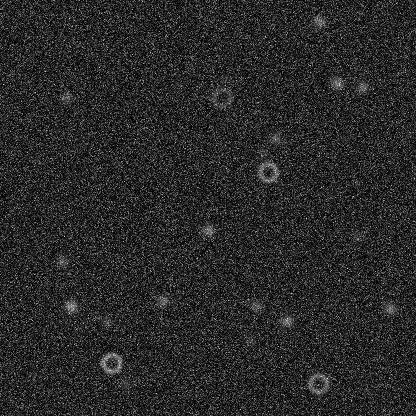Ring: (255, 160, 279, 184), (209, 85, 233, 109), (99, 350, 123, 374), (306, 371, 330, 395)
Spot: (183, 58, 199, 74), (278, 313, 294, 329), (240, 332, 256, 348), (98, 313, 114, 329), (354, 79, 370, 95), (254, 145, 270, 161), (58, 89, 74, 105), (311, 13, 327, 29), (200, 222, 216, 238), (329, 75, 345, 91), (154, 292, 170, 308), (62, 298, 78, 314), (54, 253, 70, 269), (349, 228, 365, 244), (218, 72, 234, 88), (248, 297, 264, 313), (117, 375, 133, 391), (382, 300, 398, 316), (267, 130, 283, 146), (26, 152, 42, 168)
